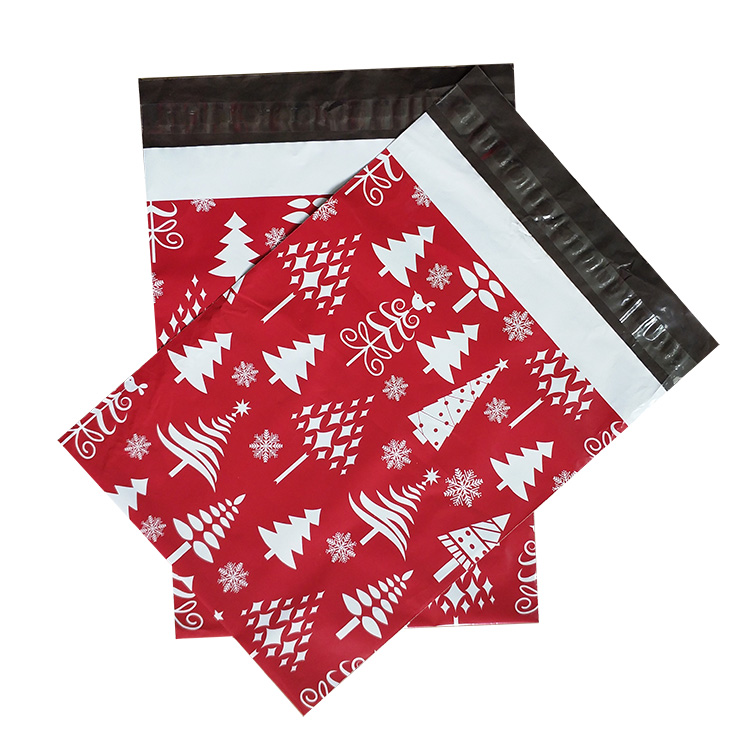塑料袋: (58, 67, 720, 713), (141, 62, 538, 642)
